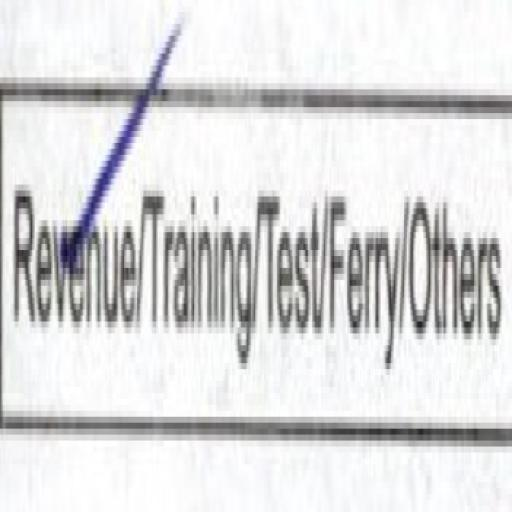check: (2, 0, 136, 484)
